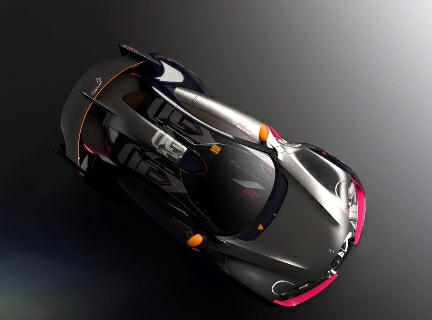雪铁龙-Survolt: (43, 34, 378, 320)
